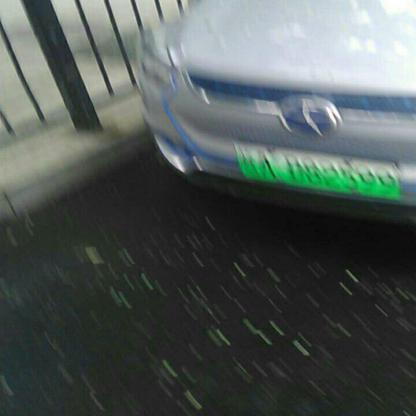lp: (235, 148, 403, 198)
